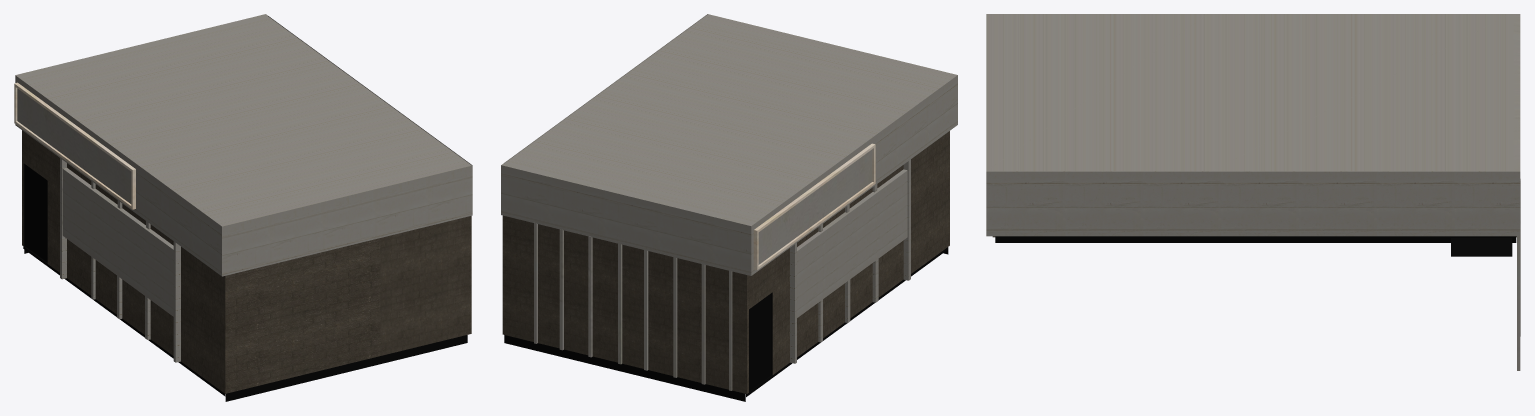
The model's file is Cinema.glb.
The picture shows the model from 3 angles, left to right: view 1: azimuth 30°, elevation 25°; view 2: azimuth 150°, elevation 25°; view 3: azimuth 270°, elevation 25°; orthographic projection. The views are drawn at different scales.
Visible parts, largest first — view 1: Cinema; view 2: Cinema; view 3: Cinema.
Boxes of the visible parts, x1,y1,x2,y2 form: Cinema: (14, 14, 472, 401); Cinema: (501, 14, 957, 401); Cinema: (986, 14, 1520, 370).
Size of the model in its own units: 66.34 by 44.44 by 93.09.
Materials: 5 (4 with a texture image).
